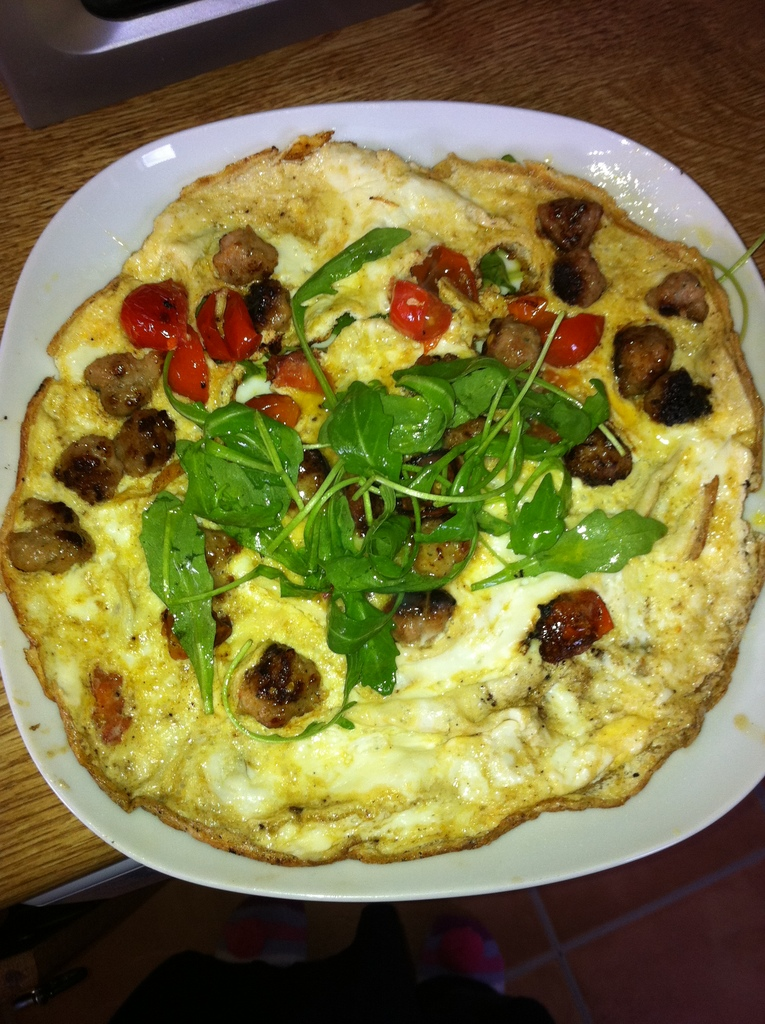Pizza: (0, 129, 765, 859)
